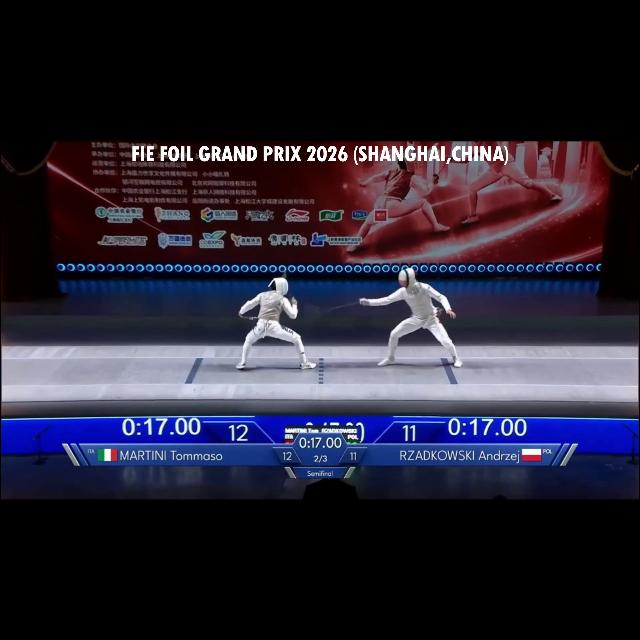blade: (280, 268, 302, 300), (328, 297, 368, 311)
